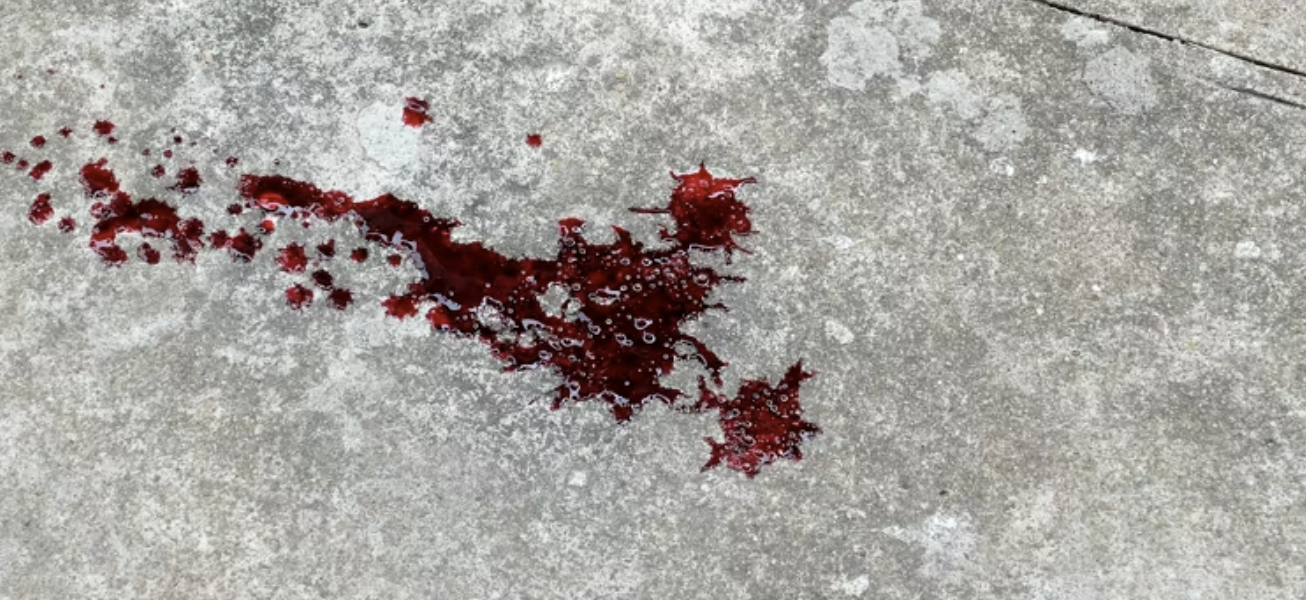blood_31.png: (1, 77, 866, 486)
